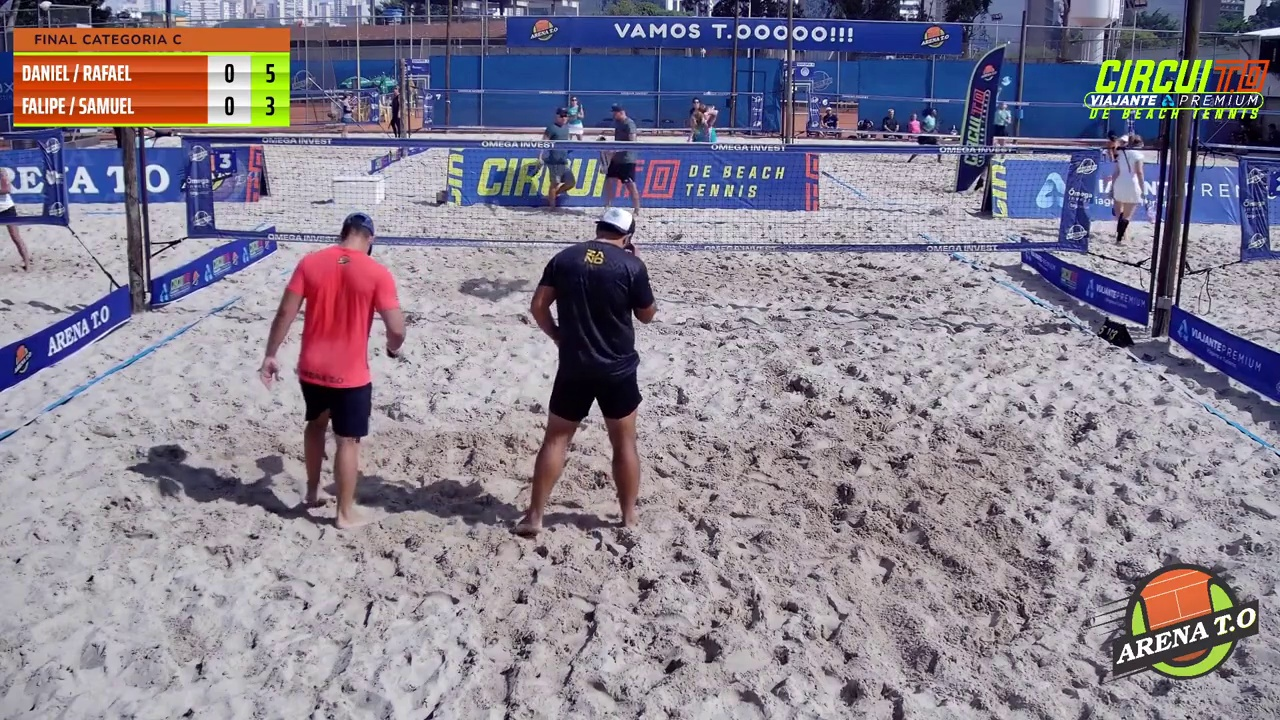court_line: (643, 0, 817, 485)
